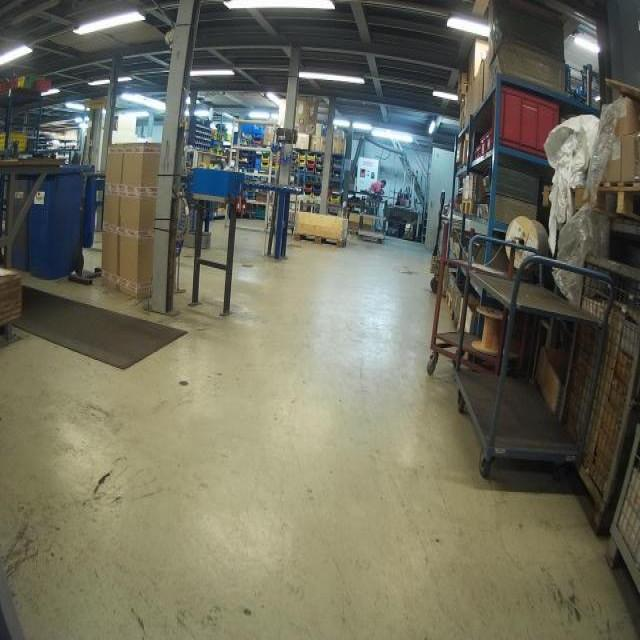pallet: (596, 177, 640, 225), (292, 231, 348, 249), (461, 199, 476, 216), (443, 288, 454, 310)
pallet_truck: (429, 184, 449, 284)
small_load_carrier: (484, 83, 569, 163)
stillage: (553, 244, 639, 538), (601, 409, 639, 620)
